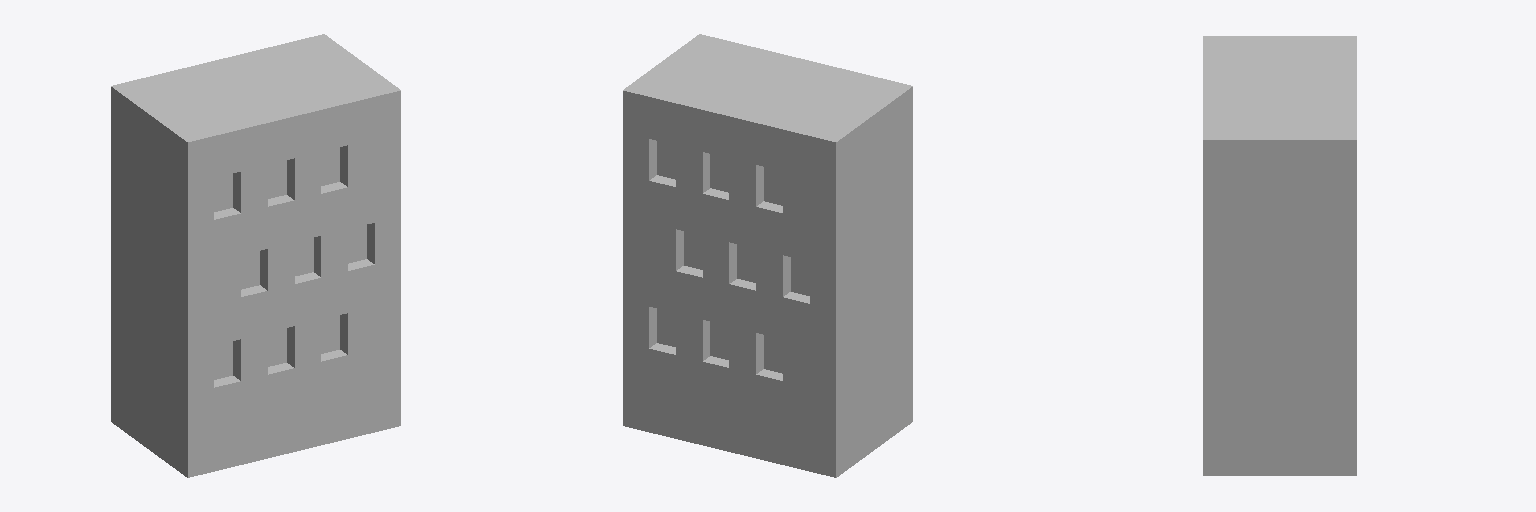
The model's file is house1.obj.
The picture shows the model from 3 angles: view 1: azimuth 30°, elevation 25°; view 2: azimuth 150°, elevation 25°; view 3: azimuth 270°, elevation 25°; orthographic projection.
Visible parts, largest first — view 1: cube; view 2: cube; view 3: cube.
Part boxes in pixels (x1,y1,x2,y2): cube: (111,34,400,477); cube: (623,34,912,477); cube: (1203,36,1356,475).
Size of the model in its own units: 1 by 1.5 by 0.625.